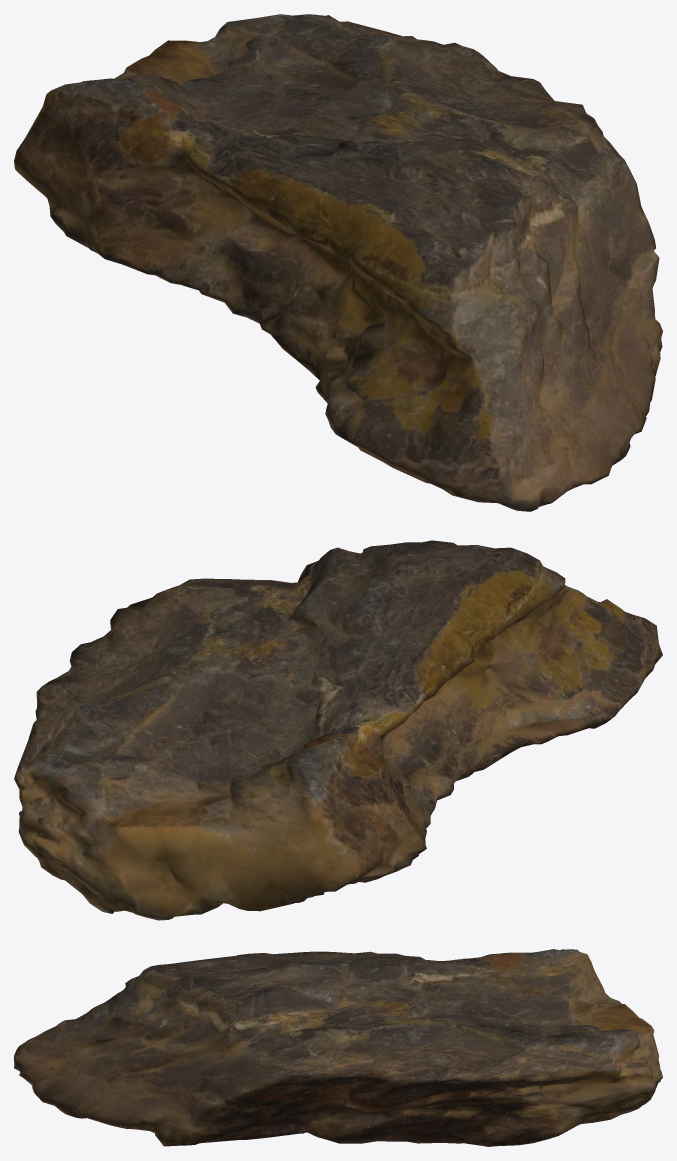
File: rock_09.glb
3 renders of one model, top to bottom at view 1: azimuth 30°, elevation 25°; view 2: azimuth 150°, elevation 25°; view 3: azimuth 270°, elevation 25°, orthographic. The views are drawn at different scales.
Visible parts, largest first — view 1: rock_09_LOD0; view 2: rock_09_LOD0; view 3: rock_09_LOD0.
Part boxes in pixels (left/top/right/bottom): rock_09_LOD0: left=14, top=14, right=662, bottom=511; rock_09_LOD0: left=14, top=540, right=662, bottom=920; rock_09_LOD0: left=14, top=949, right=662, bottom=1146.
Bounding box in the file's own units: 0.074 × 0.0328 × 0.1446.
1 material, 1 textured.
